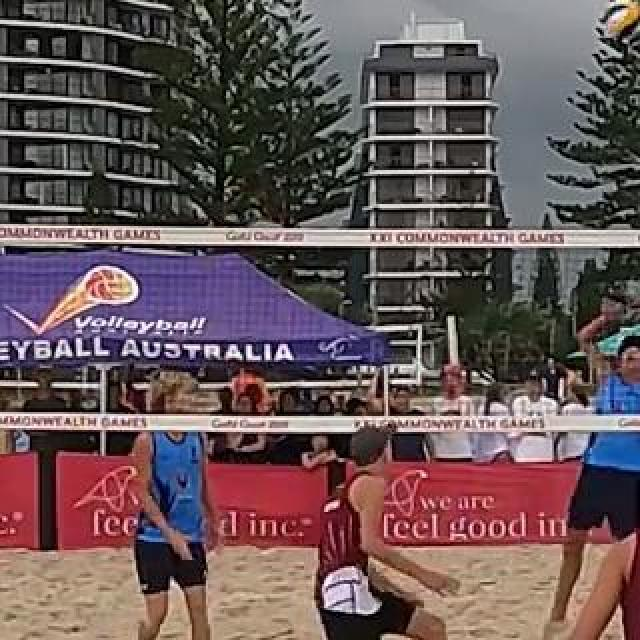volleyball: (600, 0, 638, 36)
